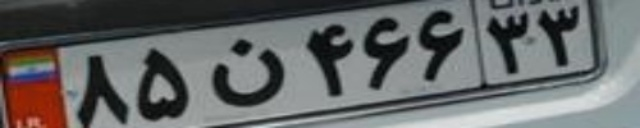3: (483, 11, 533, 75), (539, 3, 581, 67)
4: (304, 24, 352, 97)
5: (136, 47, 191, 121)
6: (418, 10, 468, 83), (362, 17, 408, 91)
8: (71, 53, 130, 125)
non: (209, 38, 285, 106)
